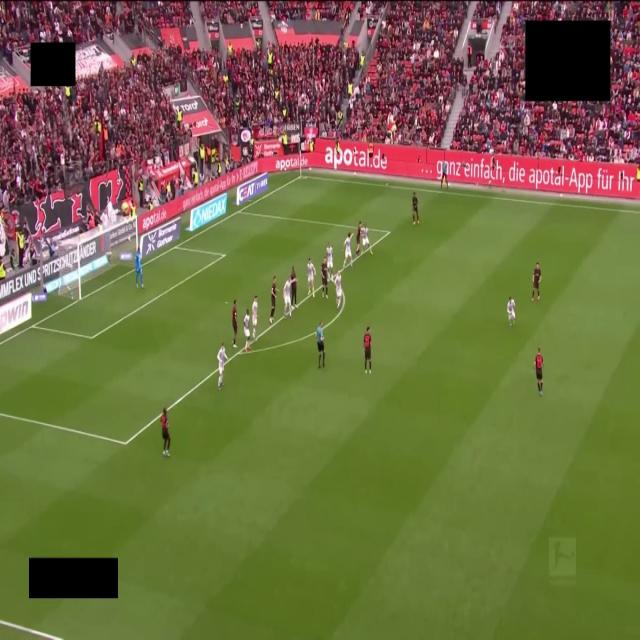player: (217, 343, 227, 390), (161, 408, 170, 456), (270, 276, 278, 324), (535, 348, 543, 396), (532, 264, 541, 301), (343, 232, 352, 269), (364, 327, 371, 373), (135, 247, 143, 287), (362, 224, 372, 255), (334, 271, 342, 309), (307, 258, 315, 296), (283, 280, 291, 317), (321, 258, 328, 297), (412, 192, 420, 225), (291, 267, 297, 309), (244, 309, 250, 351), (326, 243, 333, 279), (507, 296, 515, 326), (232, 300, 237, 348), (252, 296, 257, 340), (356, 222, 361, 255)
referee: (317, 322, 324, 367)
